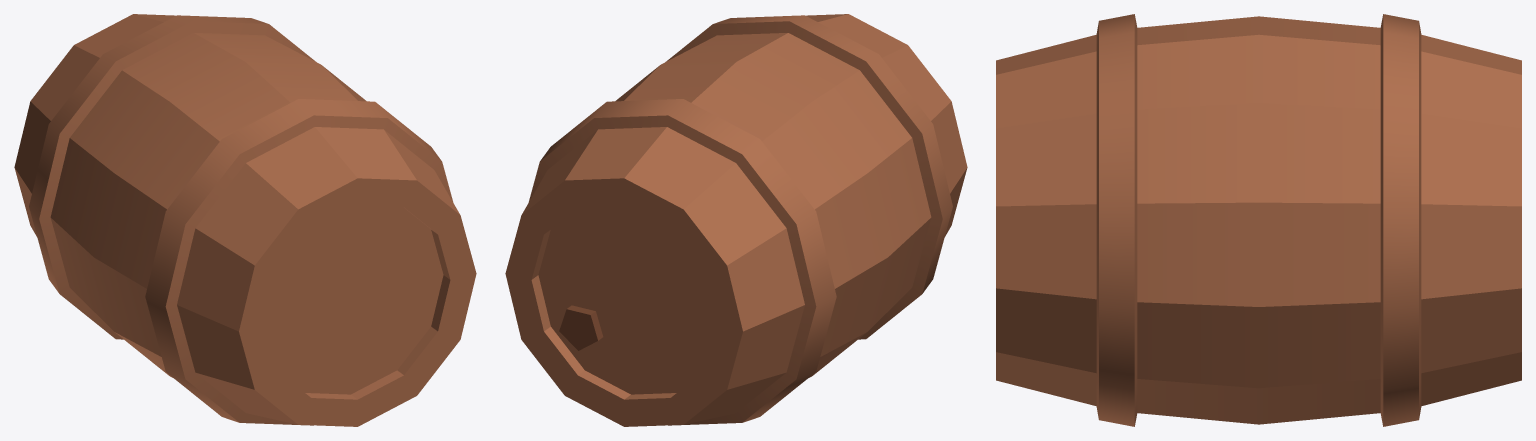
The model's file is Barrel.fbx.
The picture shows the model from 3 angles, left to right: view 1: azimuth 30°, elevation 25°; view 2: azimuth 150°, elevation 25°; view 3: azimuth 270°, elevation 25°; orthographic projection. The views are drawn at different scales.
Visible parts, largest first — view 1: Barrel; view 2: Barrel; view 3: Barrel.
Boxes of the visible parts, x1,y1,x2,y2 form: Barrel: [14, 14, 476, 426]; Barrel: [505, 14, 967, 426]; Barrel: [996, 14, 1521, 426].
Bounding box in the file's own units: 2.03 × 2.03 × 2.57.
